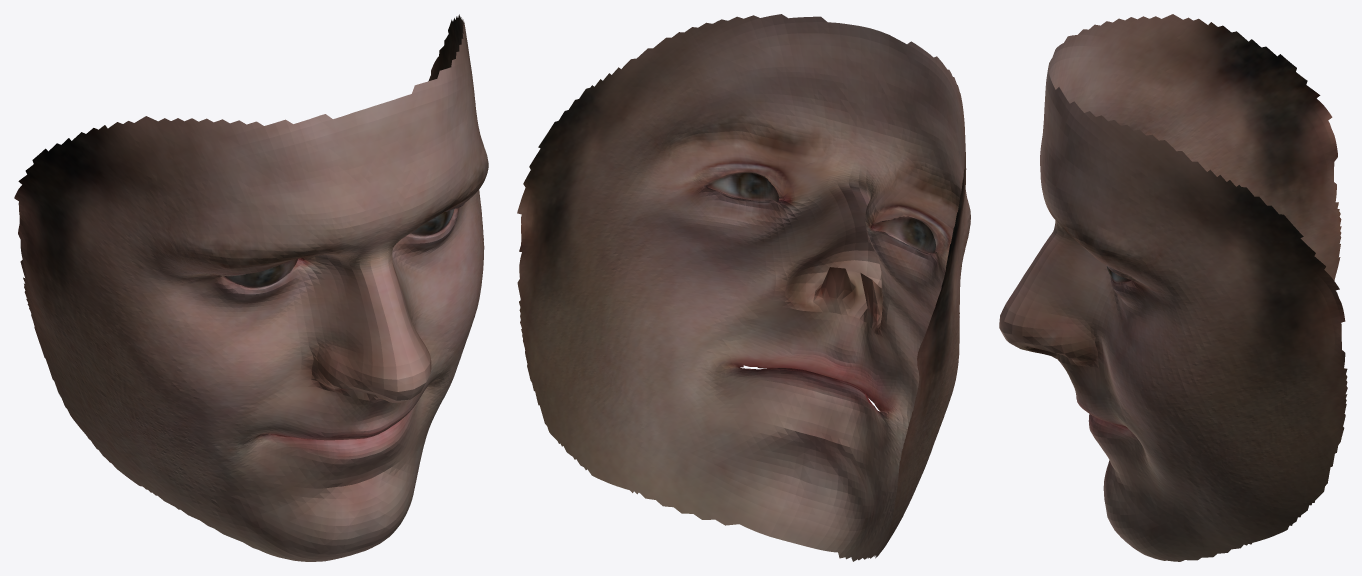
3 views of the same model, side by side, from view 1: azimuth 30°, elevation 25°; view 2: azimuth 150°, elevation 25°; view 3: azimuth 270°, elevation 25° (orthographic). The views are drawn at different scales.
Size of the model in its own units: 1.48 by 1.68 by 1.12.
